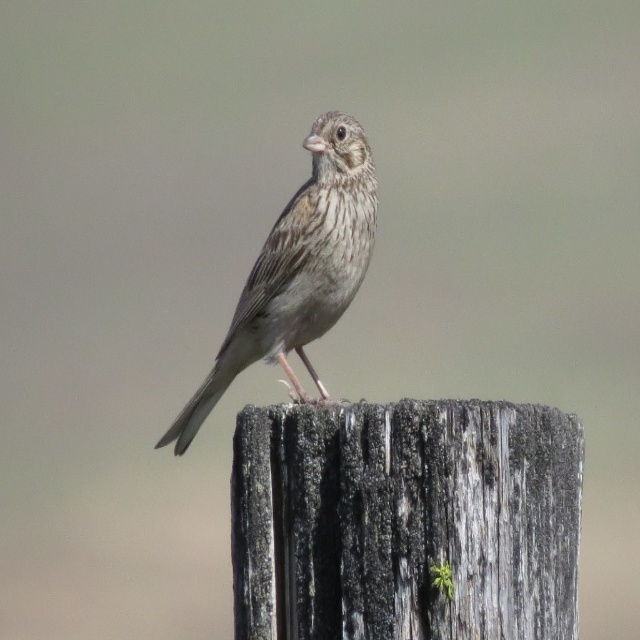Sparrow: (157, 110, 380, 454)
